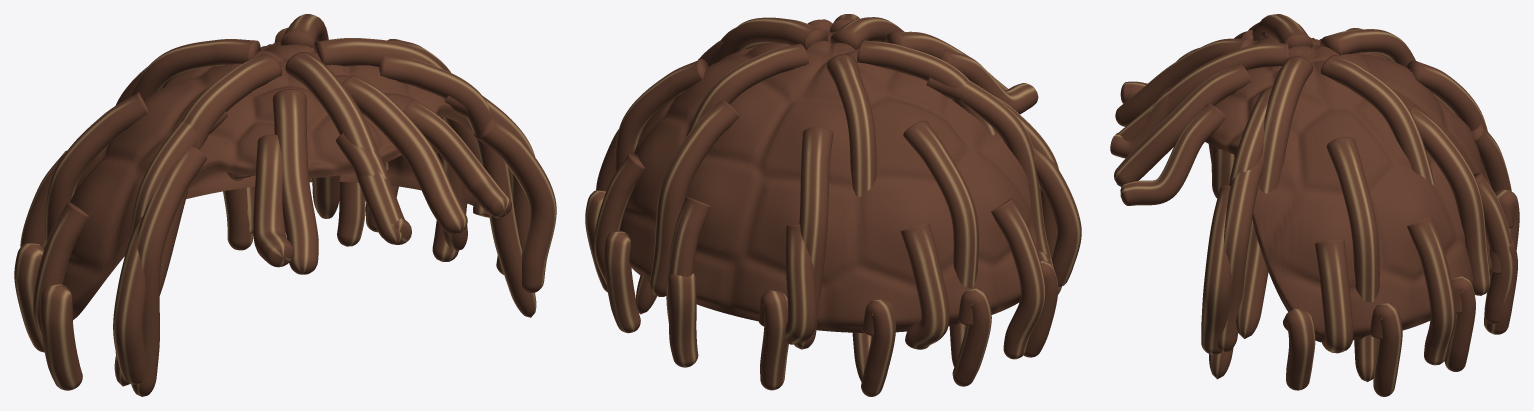
Rendered from Highlights-d146f7dcaade252-hair.glb.
3 renders of one model, left to right at view 1: azimuth 30°, elevation 25°; view 2: azimuth 150°, elevation 25°; view 3: azimuth 270°, elevation 25°, orthographic. The views are drawn at different scales.
Visible parts, largest first — view 1: 226 hair / Hair252 / sectioned locs; view 2: 226 hair / Hair252 / sectioned locs; view 3: 226 hair / Hair252 / sectioned locs.
Boxes of the visible parts, x1,y1,x2,y2 form: 226 hair / Hair252 / sectioned locs: (14,14,556,396); 226 hair / Hair252 / sectioned locs: (585,14,1081,396); 226 hair / Hair252 / sectioned locs: (1110,14,1519,396).
Size of the model in its own units: 1.1 by 0.6395 by 0.8956.
1 material, 1 textured.
